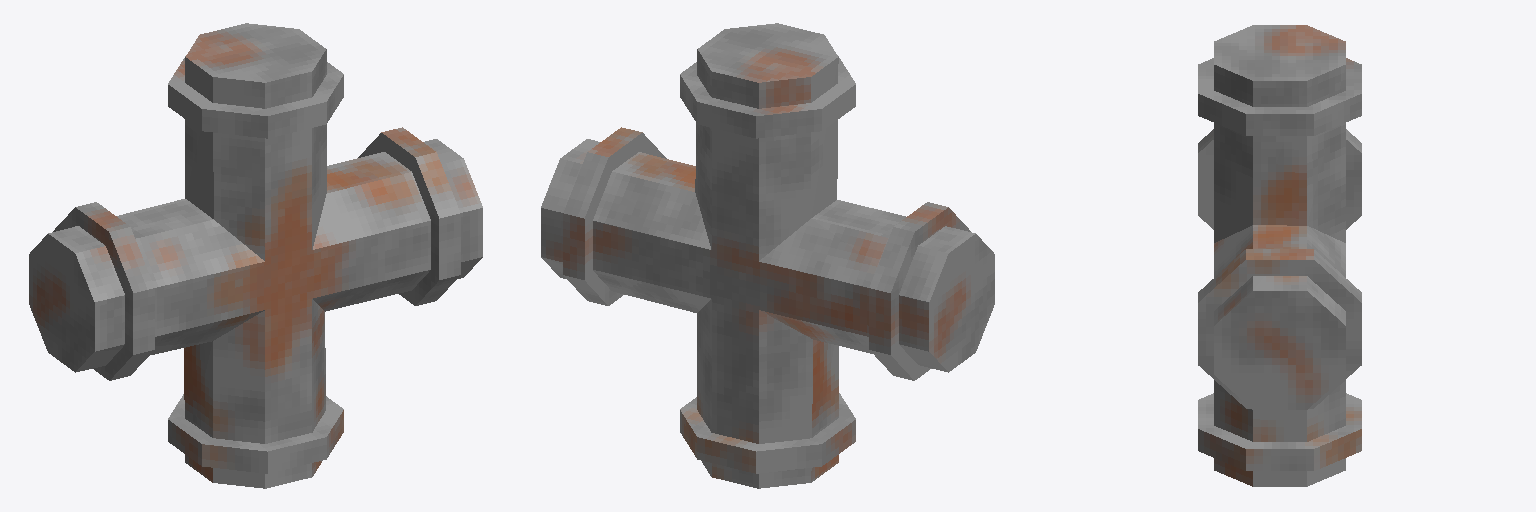
3 views of the same model, side by side, from view 1: azimuth 30°, elevation 25°; view 2: azimuth 150°, elevation 25°; view 3: azimuth 270°, elevation 25° (orthographic).
Parts seen in each view (by area): view 1: cylinder; view 2: cylinder; view 3: cylinder.
Part boxes in pixels (left/top/right/bottom): cylinder: left=29, top=23, right=482, bottom=488; cylinder: left=541, top=23, right=994, bottom=488; cylinder: left=1198, top=25, right=1361, bottom=486.
Bounding box in the file's own units: 3.41 × 3.41 × 1.25.
1 materials, 1 textured.